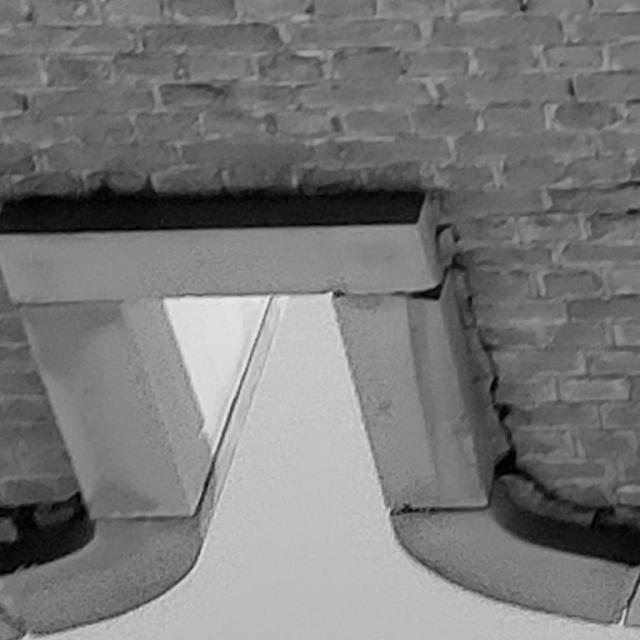crack: (436, 224, 622, 532), (1, 491, 88, 572)
